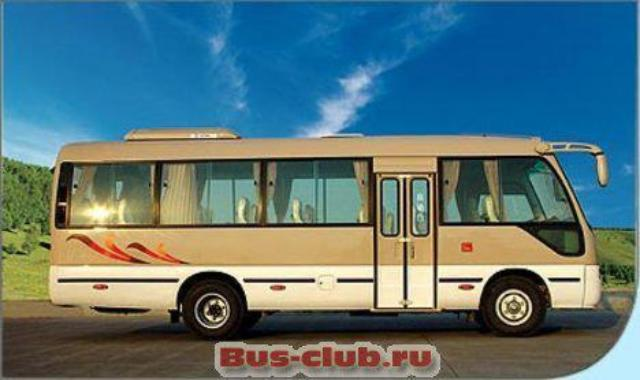bus: (41, 118, 637, 335)
